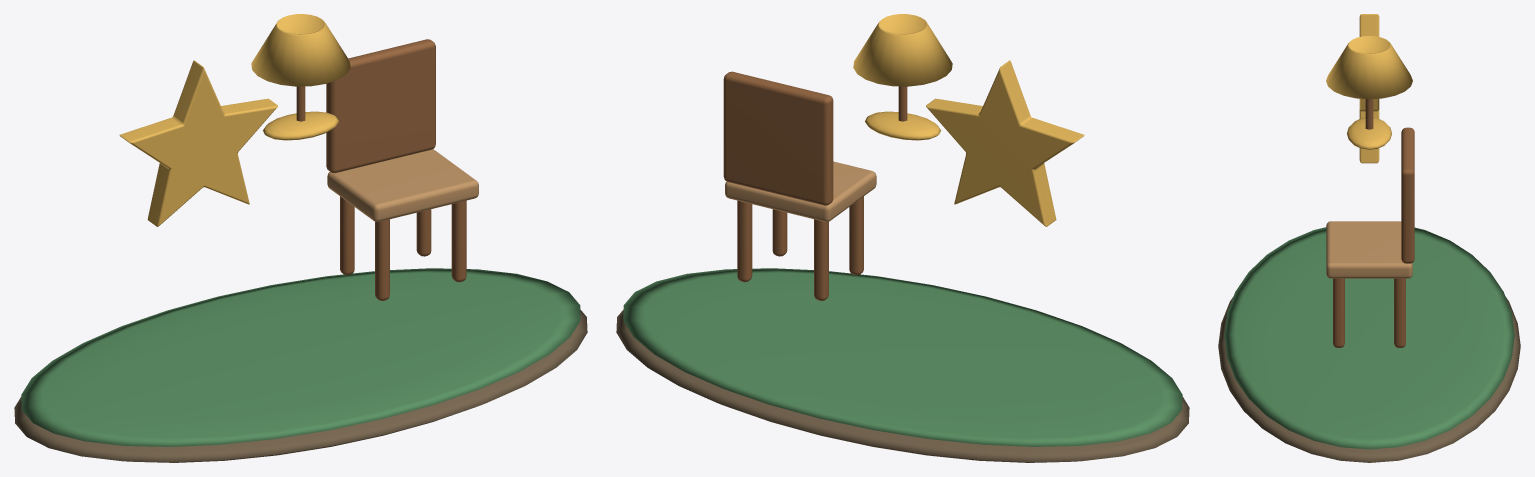
File: complete-second-sparks-stool-light.glb
3 views of the same model, side by side, from view 1: azimuth 30°, elevation 25°; view 2: azimuth 150°, elevation 25°; view 3: azimuth 270°, elevation 25° (orthographic). The views are drawn at different scales.
Parts seen in each view (by area): view 1: complete-second-sparks-stool-light_surface_01, complete-second-sparks-stool-light_surface_02, complete-second-sparks-stool-light_surface_04, complete-second-sparks-stool-light_surface_00, complete-second-sparks-stool-light_surface_03; view 2: complete-second-sparks-stool-light_surface_01, complete-second-sparks-stool-light_surface_02, complete-second-sparks-stool-light_surface_04, complete-second-sparks-stool-light_surface_00, complete-second-sparks-stool-light_surface_03; view 3: complete-second-sparks-stool-light_surface_01, complete-second-sparks-stool-light_surface_02, complete-second-sparks-stool-light_surface_00, complete-second-sparks-stool-light_surface_03, complete-second-sparks-stool-light_surface_04.
Boxes of the visible parts, left/top/right/bottom form: complete-second-sparks-stool-light_surface_01: left=21, top=268, right=580, bottom=446; complete-second-sparks-stool-light_surface_02: left=119, top=14, right=350, bottom=226; complete-second-sparks-stool-light_surface_04: left=296, top=39, right=466, bottom=300; complete-second-sparks-stool-light_surface_00: left=14, top=309, right=587, bottom=462; complete-second-sparks-stool-light_surface_03: left=327, top=149, right=478, bottom=221; complete-second-sparks-stool-light_surface_01: left=623, top=268, right=1182, bottom=446; complete-second-sparks-stool-light_surface_02: left=853, top=14, right=1084, bottom=226; complete-second-sparks-stool-light_surface_04: left=723, top=71, right=907, bottom=300; complete-second-sparks-stool-light_surface_00: left=616, top=309, right=1189, bottom=462; complete-second-sparks-stool-light_surface_03: left=725, top=161, right=876, bottom=221; complete-second-sparks-stool-light_surface_01: left=1224, top=227, right=1514, bottom=449; complete-second-sparks-stool-light_surface_02: left=1326, top=14, right=1412, bottom=163; complete-second-sparks-stool-light_surface_00: left=1218, top=297, right=1520, bottom=462; complete-second-sparks-stool-light_surface_03: left=1326, top=221, right=1412, bottom=278; complete-second-sparks-stool-light_surface_04: left=1333, top=99, right=1414, bottom=347.
Size of the model in its own units: 4.56 by 2.88 by 2.5.
